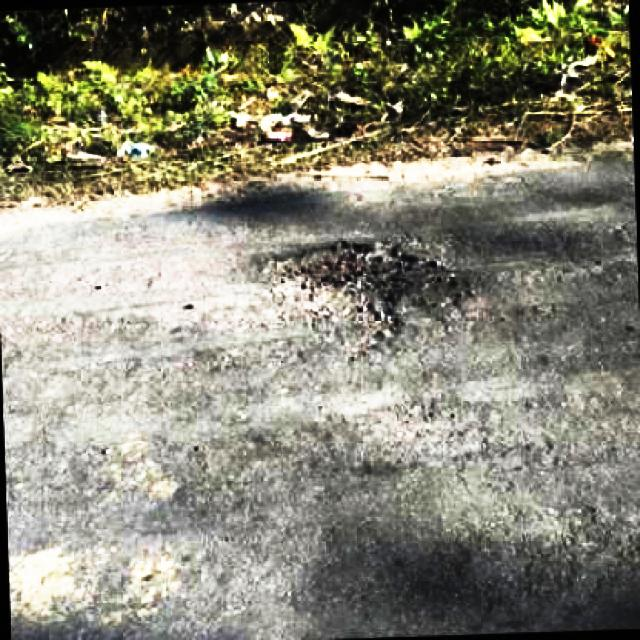pothole: (262, 235, 462, 323)
